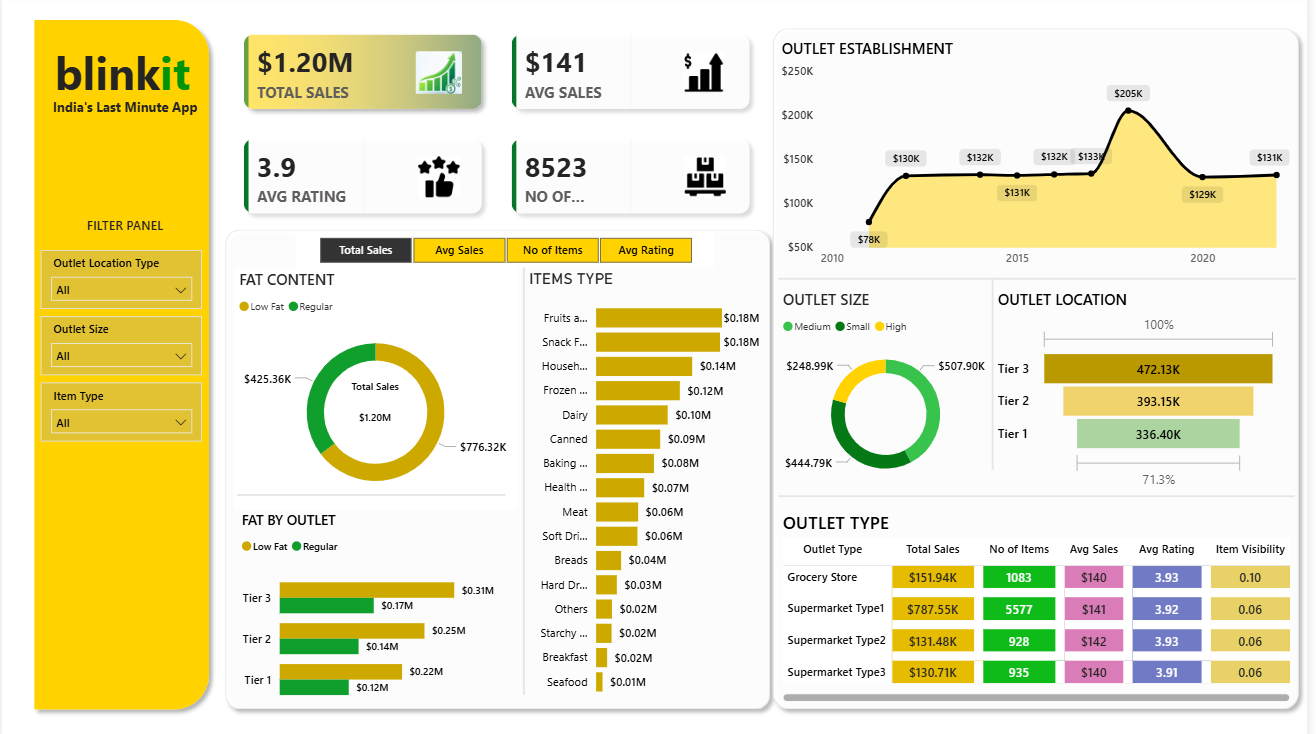

What the dashboard file says about the page in this screenshot:
{"tool":"powerbi","page":{"name":"Page 1","canvas":[1400,800],"ordinal":0},"visuals":[{"type":"shape","box":[25.5,18,205.6,757.9],"z":0},{"type":"textbox","box":[43.5,45,172.6,78],"z":1000},{"type":"textbox","box":[12,106.6,240.1,31.5],"z":2000},{"type":"cardVisual","fields":{"Data":["BlinkIT Grocery Data.Total Sales","BlinkIT Grocery Data.Avg Sales","BlinkIT Grocery Data.Avg Rating","BlinkIT Grocery Data.No of Items"]},"box":[230.6,13.4,601.9,250.7],"z":3000},{"type":"image","box":[730.6,60.3,44.2,45.6],"z":4000},{"type":"image","box":[730.6,172.9,46.9,44.2],"z":5000},{"type":"image","box":[443.7,172.9,49.6,44.2],"z":6000},{"type":"image","box":[443.7,60.3,49.6,45.6],"z":7000},{"type":"shape","box":[230.6,242.6,601.9,532.2],"z":8000},{"type":"donutChart","title":"FAT CONTENT","fields":{"Y":["BlinkIT Grocery Data.Total Sales"],"Category":["BlinkIT Grocery Data.Item Fat Content"]},"box":[249.3,293.6,303,258.7],"z":9000},{"type":"slicer","fields":{"Values":["Metrics.Metrics"]},"box":[315,253.4,449.1,40.2],"z":10000},{"type":"cardVisual","title":"Total Sales","fields":{"Data":["BlinkIT Grocery Data.Total Sales"]},"box":[352.5,412.9,95.2,65.7],"z":11000},{"type":"clusteredBarChart","title":"FAT BY OUTLET","fields":{"Category":["BlinkIT Grocery Data.Outlet Location Type"],"Series":["BlinkIT Grocery Data.Item Fat Content"],"Y":["BlinkIT Grocery Data.Total Sales"]},"box":[252,552.3,282.8,222.5],"z":11001},{"type":"shape","box":[252,520.1,288.2,32.2],"z":11002},{"type":"shape","box":[540.2,292.2,38.9,458.4],"z":11003},{"type":"barChart","title":"ITEMS TYPE","fields":{"Category":["BlinkIT Grocery Data.Item Type"],"Y":["BlinkIT Grocery Data.Total Sales"]},"box":[560.3,293.6,257.4,469.2],"z":11004},{"type":"shape","box":[817.7,26.8,581.8,748],"z":11005},{"type":"lineChart","title":"OUTLET ESTABLISHMENT","fields":{"Y":["BlinkIT Grocery Data.Total Sales"],"Category":["BlinkIT Grocery Data.Outlet Establishment Year"]},"box":[831.1,45.6,555,254.7],"z":11006},{"type":"shape","box":[832.4,282.8,555,42.9],"z":11007},{"type":"donutChart","title":"OUTLET SIZE","fields":{"Y":["BlinkIT Grocery Data.Total Sales"],"Category":["BlinkIT Grocery Data.Outlet Size"]},"box":[832.4,315,230.6,219.8],"z":11008},{"type":"shape","box":[1042.9,304.3,38.9,205.1],"z":11009},{"type":"funnel","title":"OUTLET LOCATION","fields":{"Y":["Sum(BlinkIT Grocery Data.Sales)"],"Category":["BlinkIT Grocery Data.Outlet Location Type"]},"box":[1063,315,309.7,219.8],"z":11010},{"type":"shape","box":[832.4,521.5,553.6,32.2],"z":11011},{"type":"pivotTable","title":"OUTLET TYPE","fields":{"Rows":["BlinkIT Grocery Data.Outlet Type"],"Values":["BlinkIT Grocery Data.Total Sales","BlinkIT Grocery Data.No of Items","BlinkIT Grocery Data.Avg Sales","BlinkIT Grocery Data.Avg Rating","Avg(BlinkIT Grocery Data.Item Visibility)"]},"box":[832.4,552.3,553.6,210.5],"z":11012},{"type":"slicer","fields":{"Values":["BlinkIT Grocery Data.Outlet Location Type"]},"box":[41.6,273.5,172.9,63],"z":11013},{"type":"slicer","fields":{"Values":["BlinkIT Grocery Data.Outlet Size"]},"box":[41.6,344.5,172.9,63],"z":11014},{"type":"slicer","fields":{"Values":["BlinkIT Grocery Data.Item Type"]},"box":[41.6,415.6,172.9,63],"z":11015},{"type":"textbox","box":[77.7,233.2,108.6,30.8],"z":11016}]}

Visuals, with their boxes in screenshot pixels (x1, y1, x2, y2), scaled from the page's 1400x800 canvas onto the 1316x734 screenshot:
shape: [x1=24, y1=17, x2=217, y2=712]
textbox: [x1=41, y1=41, x2=203, y2=113]
textbox: [x1=11, y1=98, x2=237, y2=127]
cardVisual - BlinkIT Grocery Data.Total Sales x BlinkIT Grocery Data.Avg Sales: [x1=217, y1=12, x2=783, y2=242]
image: [x1=687, y1=55, x2=728, y2=97]
image: [x1=687, y1=159, x2=731, y2=199]
image: [x1=417, y1=159, x2=464, y2=199]
image: [x1=417, y1=55, x2=464, y2=97]
shape: [x1=217, y1=223, x2=783, y2=711]
"FAT CONTENT" donutChart: [x1=234, y1=269, x2=519, y2=507]
slicer - Metrics.Metrics: [x1=296, y1=232, x2=718, y2=269]
"Total Sales" cardVisual: [x1=331, y1=379, x2=421, y2=439]
"FAT BY OUTLET" clusteredBarChart: [x1=237, y1=507, x2=503, y2=711]
shape: [x1=237, y1=477, x2=508, y2=507]
shape: [x1=508, y1=268, x2=544, y2=689]
"ITEMS TYPE" barChart: [x1=527, y1=269, x2=769, y2=700]
shape: [x1=769, y1=25, x2=1315, y2=711]
"OUTLET ESTABLISHMENT" lineChart: [x1=781, y1=42, x2=1303, y2=276]
shape: [x1=782, y1=259, x2=1304, y2=299]
"OUTLET SIZE" donutChart: [x1=782, y1=289, x2=999, y2=491]
shape: [x1=980, y1=279, x2=1017, y2=467]
"OUTLET LOCATION" funnel: [x1=999, y1=289, x2=1290, y2=491]
shape: [x1=782, y1=478, x2=1303, y2=508]
"OUTLET TYPE" pivotTable: [x1=782, y1=507, x2=1303, y2=700]
slicer - BlinkIT Grocery Data.Outlet Location Type: [x1=39, y1=251, x2=202, y2=309]
slicer - BlinkIT Grocery Data.Outlet Size: [x1=39, y1=316, x2=202, y2=374]
slicer - BlinkIT Grocery Data.Item Type: [x1=39, y1=381, x2=202, y2=439]
textbox: [x1=73, y1=214, x2=175, y2=242]
